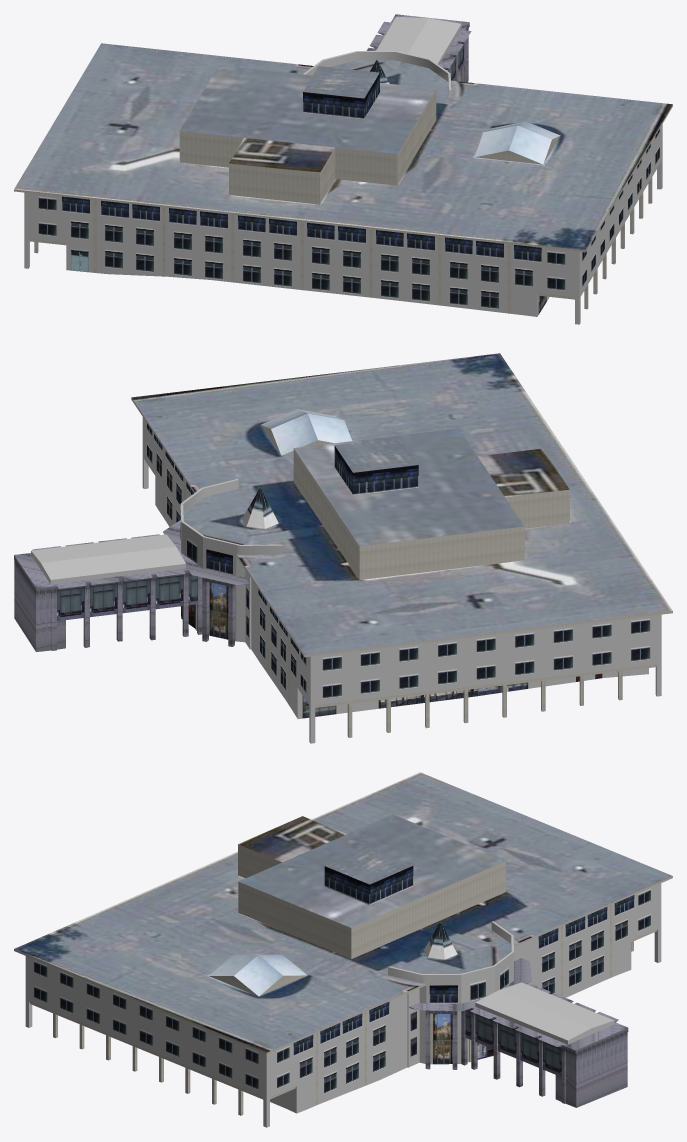
The model's file is haggard edit.fbx.
3 renders of one model, top to bottom at view 1: azimuth 30°, elevation 25°; view 2: azimuth 150°, elevation 25°; view 3: azimuth 270°, elevation 25°, orthographic. The views are drawn at different scales.
Visible parts, largest first — view 1: Haggard_Hall__Western_Washington_University1; view 2: Haggard_Hall__Western_Washington_University1; view 3: Haggard_Hall__Western_Washington_University1.
Part boxes in pixels (x1,y1,x2,y2): Haggard_Hall__Western_Washington_University1: (14,14,672,324); Haggard_Hall__Western_Washington_University1: (14,353,672,743); Haggard_Hall__Western_Washington_University1: (14,772,672,1127).
Size of the model in its own units: 3478 by 796 by 3453.
